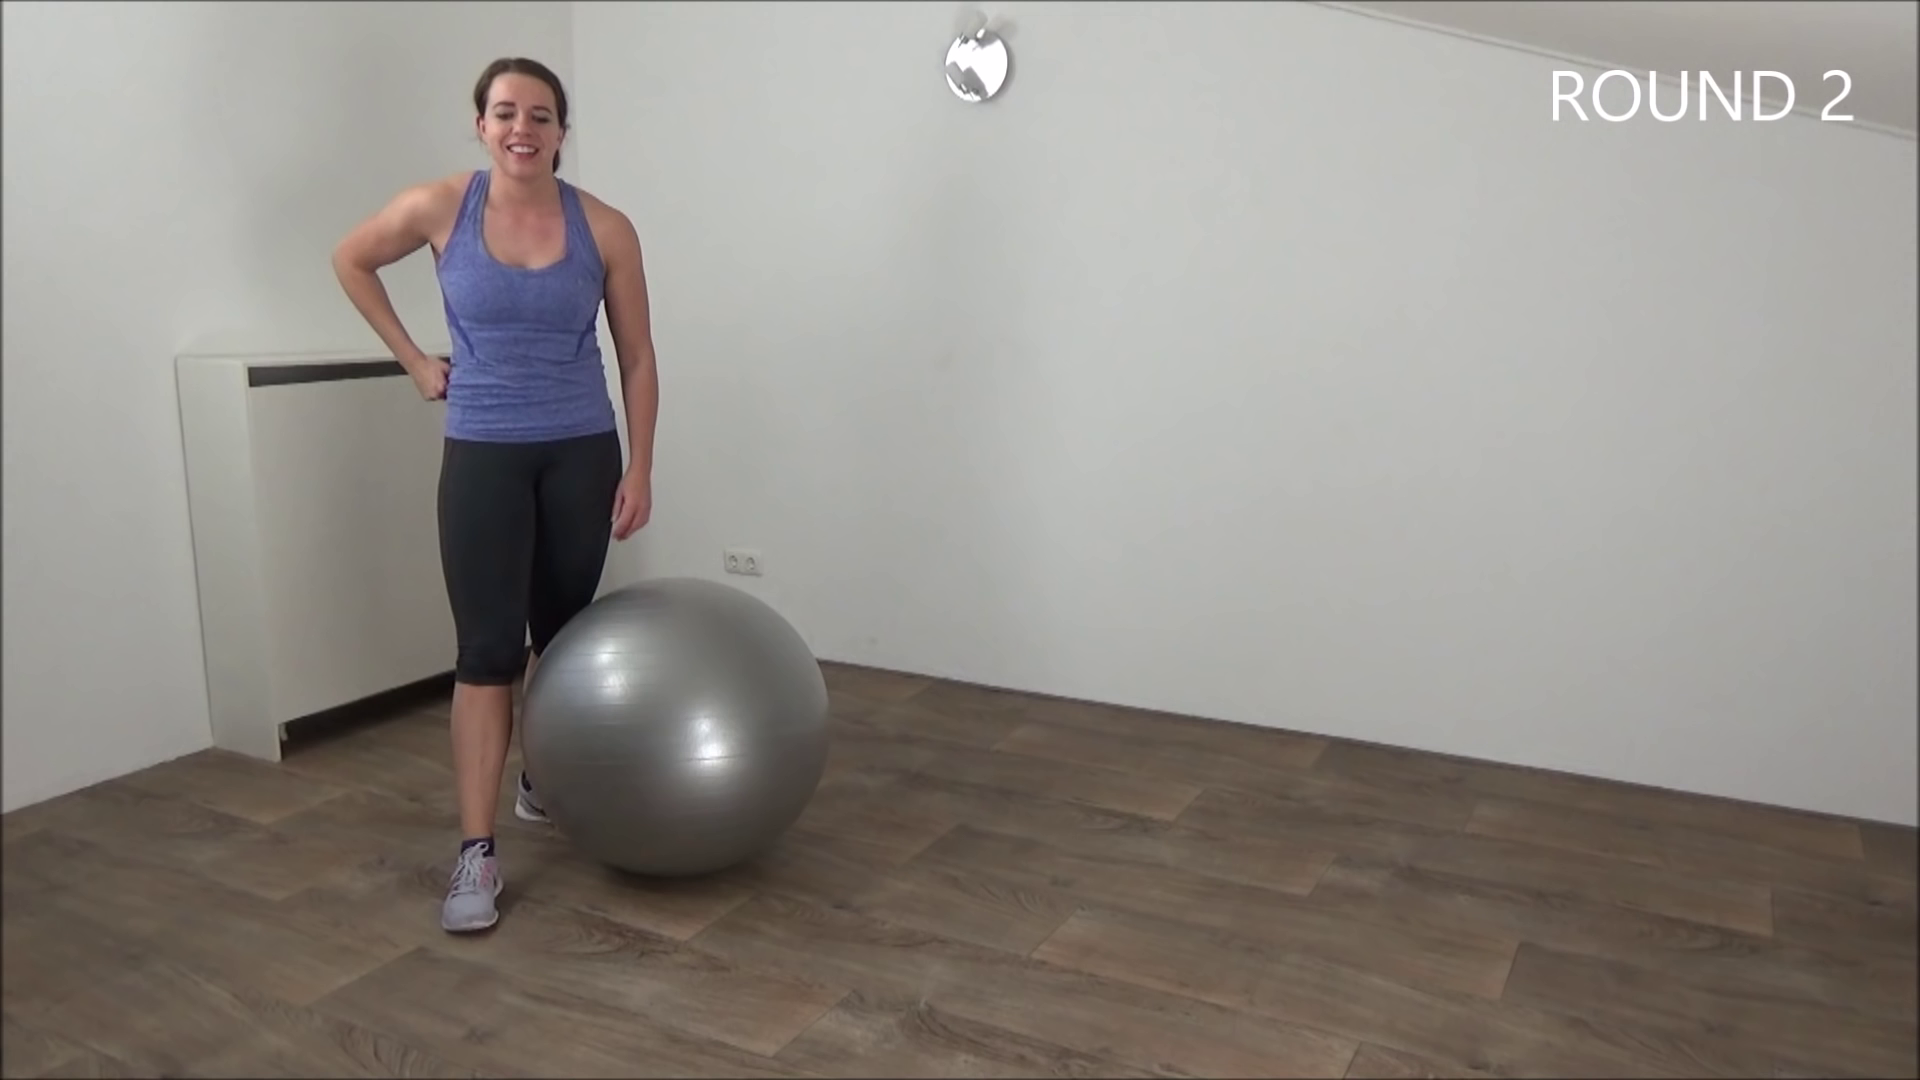yogaball: (495, 574, 855, 897)
